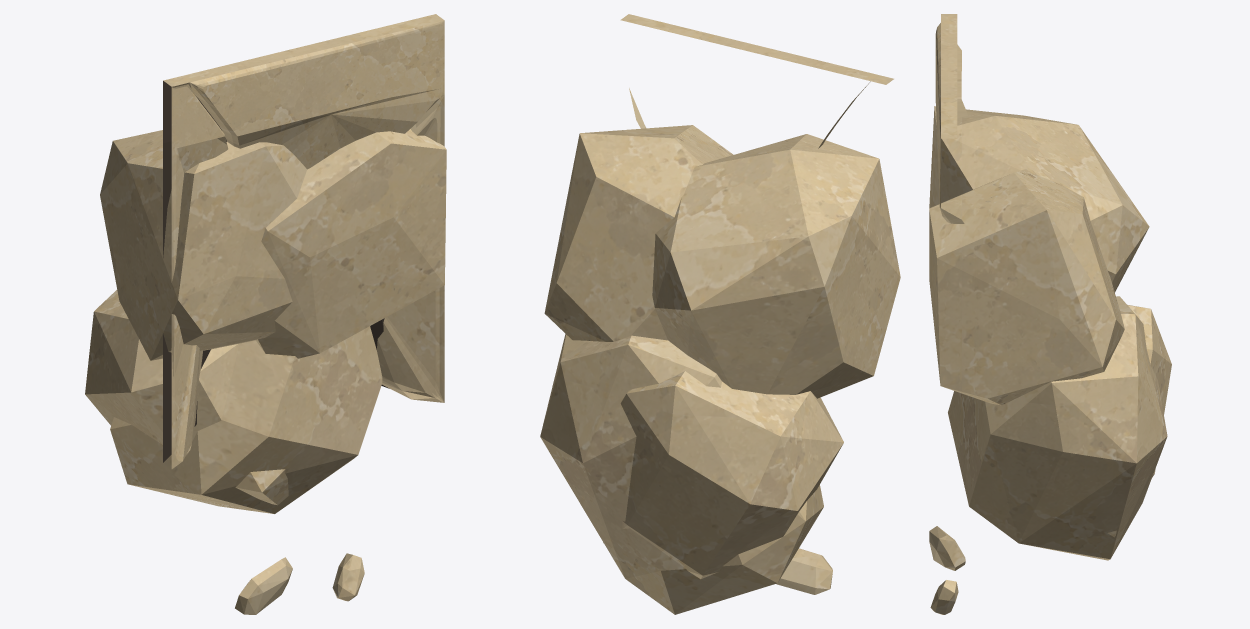
Rendered from ground_bottom_square_edge_05.glb.
3 renders of one model, left to right at view 1: azimuth 30°, elevation 25°; view 2: azimuth 150°, elevation 25°; view 3: azimuth 270°, elevation 25°, orthographic. The views are drawn at different scales.
Parts seen in each view (by area): view 1: GroundBottomSquareEdge05_Body; view 2: GroundBottomSquareEdge05_Body; view 3: GroundBottomSquareEdge05_Body.
Boxes of the visible parts, x1=… form: GroundBottomSquareEdge05_Body: x1=85, y1=14, x2=446, y2=614; GroundBottomSquareEdge05_Body: x1=540, y1=14, x2=900, y2=614; GroundBottomSquareEdge05_Body: x1=929, y1=14, x2=1171, y2=614.
Size of the model in its own units: 1 by 1.95 by 1.04.
Materials: 5 (4 with a texture image).
